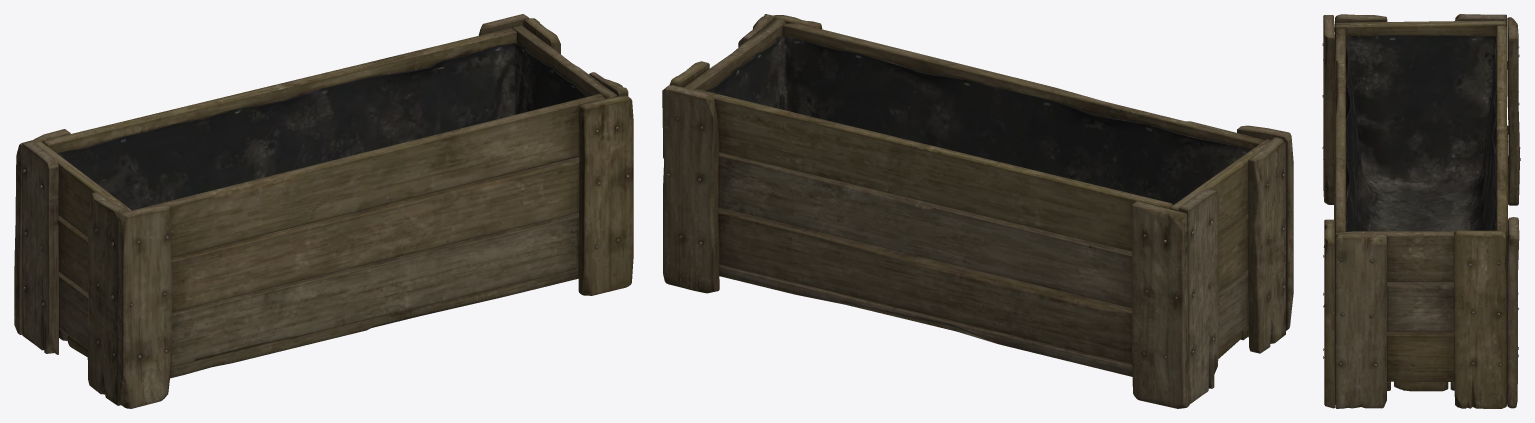
File: planter_box_02.glb
3 views of the same model, side by side, from view 1: azimuth 30°, elevation 25°; view 2: azimuth 150°, elevation 25°; view 3: azimuth 270°, elevation 25° (orthographic). The views are drawn at different scales.
Visible parts, largest first — view 1: planter_box_02; view 2: planter_box_02; view 3: planter_box_02.
Part boxes in pixels (bbox=[...]): planter_box_02: bbox=[14, 14, 633, 408]; planter_box_02: bbox=[662, 14, 1293, 408]; planter_box_02: bbox=[1322, 14, 1520, 408].
Size of the model in its own units: 1.25 by 0.4534 by 0.4673.
Materials: 1 (1 with a texture image).
